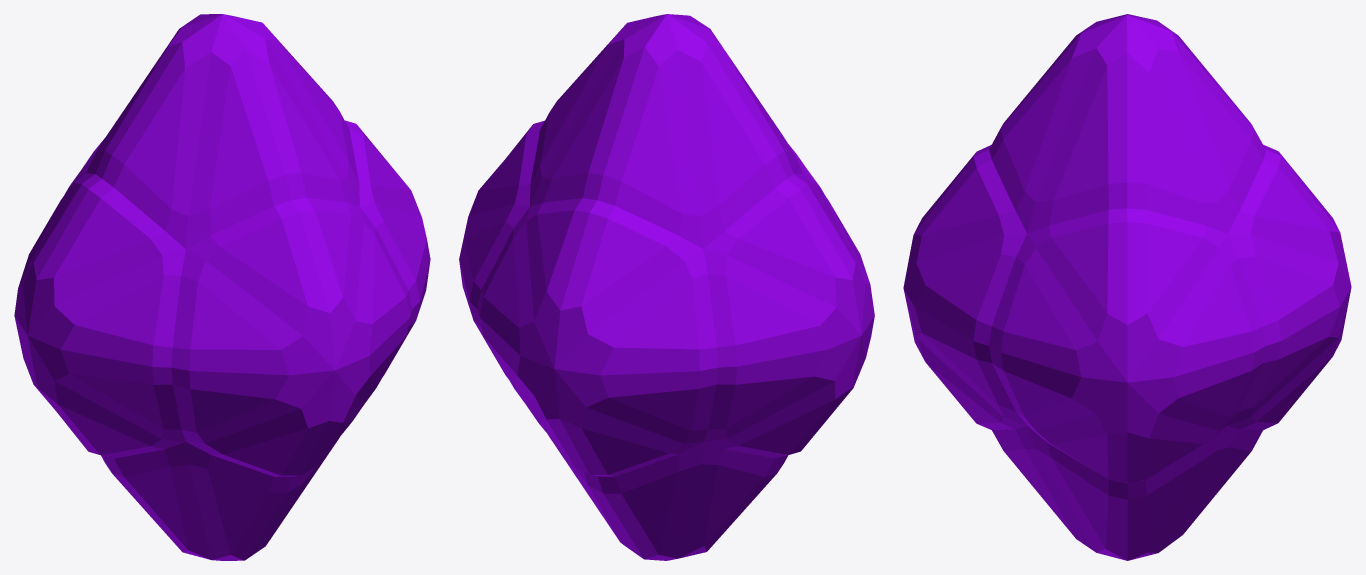
The model's file is crystaltest.fbx.
3 views of the same model, side by side, from view 1: azimuth 30°, elevation 25°; view 2: azimuth 150°, elevation 25°; view 3: azimuth 270°, elevation 25° (orthographic).
Visible parts, largest first — view 1: pCube22; view 2: pCube22; view 3: pCube22.
Part boxes in pixels (box(x1,y1,x2,y2)): pCube22: box(14, 14, 430, 560); pCube22: box(459, 14, 874, 560); pCube22: box(903, 14, 1351, 560).
Bounding box in the file's own units: 57.11 × 76.63 × 57.1.
